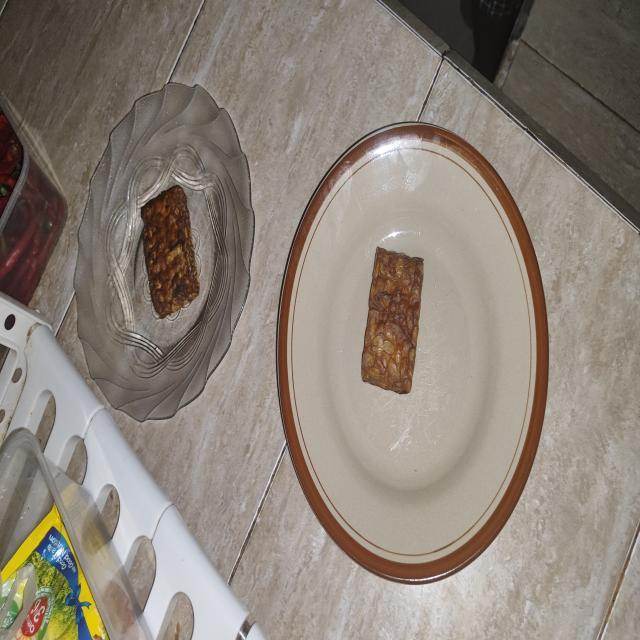tempe_goreng: (361, 247, 424, 394), (141, 185, 200, 318)
